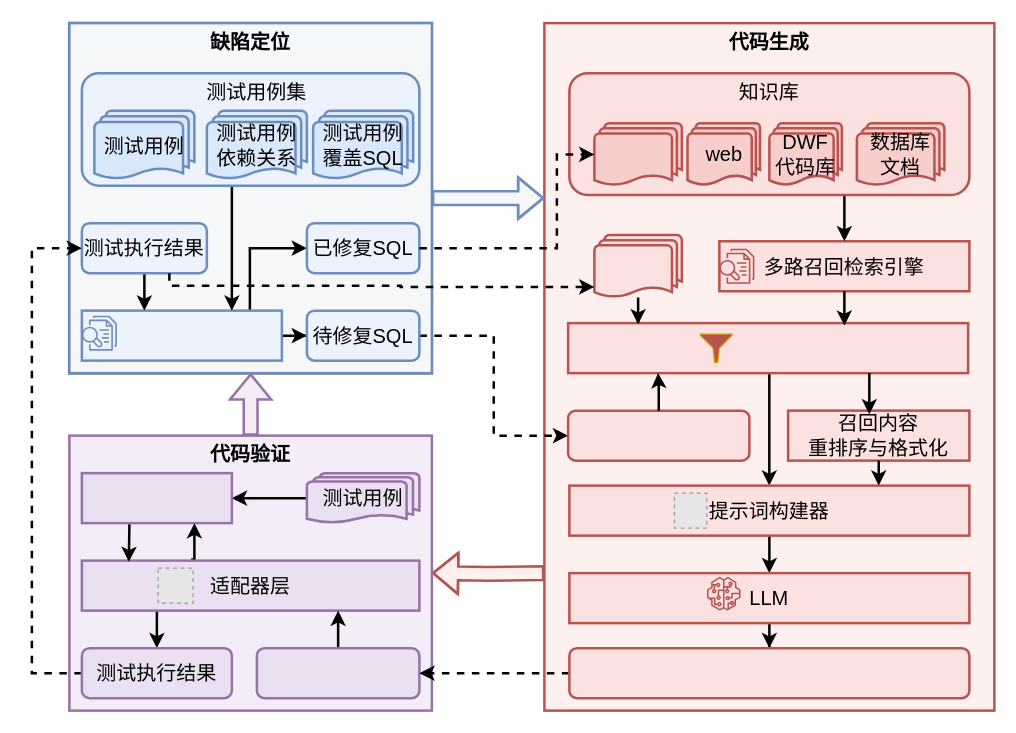
This 1016x733 diagram has some shape labels left out. Grey dashed boxes stand in for pictures. The shapes that lost their labels are listed below. From the top down, each one's box as (x1, y1, x2, y2) in pixels, then its label:
(592, 121, 682, 186): SQL 转换例子
(592, 233, 682, 298): 测试用例 报错信息
(80, 309, 282, 361): 缺陷定位引擎
(566, 321, 969, 374): 过滤器
(566, 409, 750, 461): SQL输入
(80, 471, 232, 524): Jenkins
(255, 646, 420, 699): 当前系统状态（yml配置文件）
(568, 646, 970, 699): 目标数据库SQL
